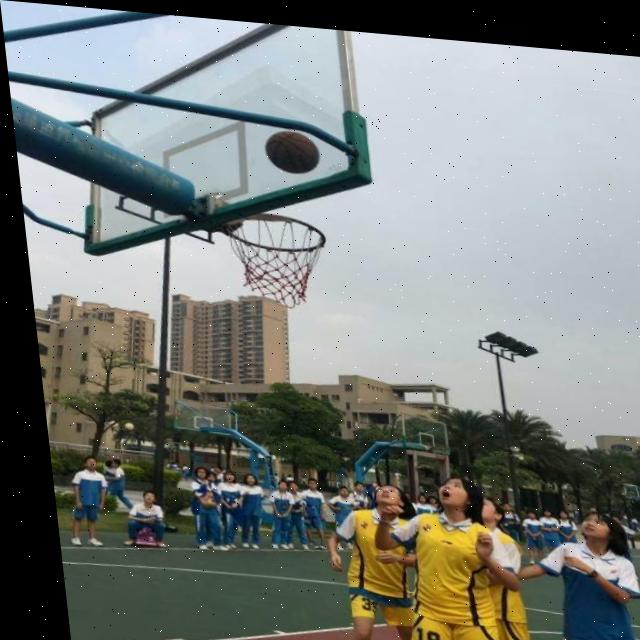basketball: (264, 128, 324, 177)
hoop: (216, 208, 335, 307), (427, 441, 453, 462)
